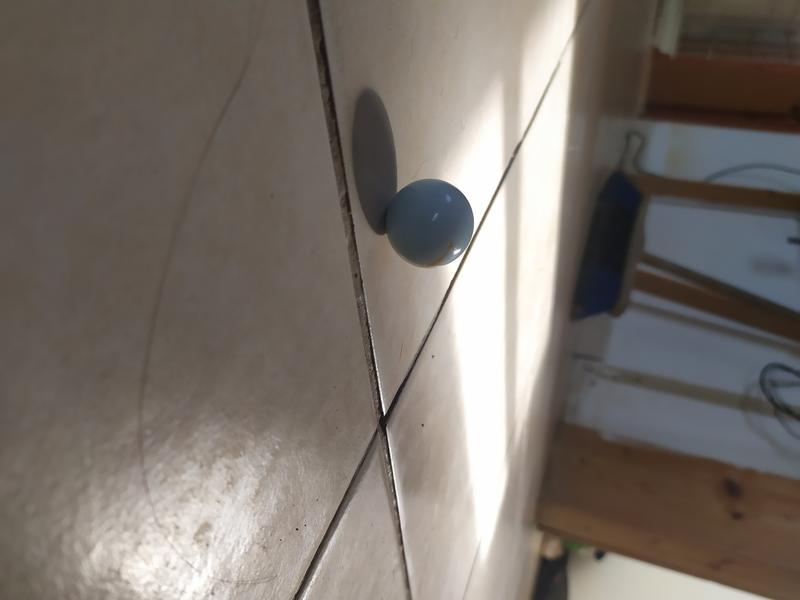Warning: (380, 174, 480, 271)
